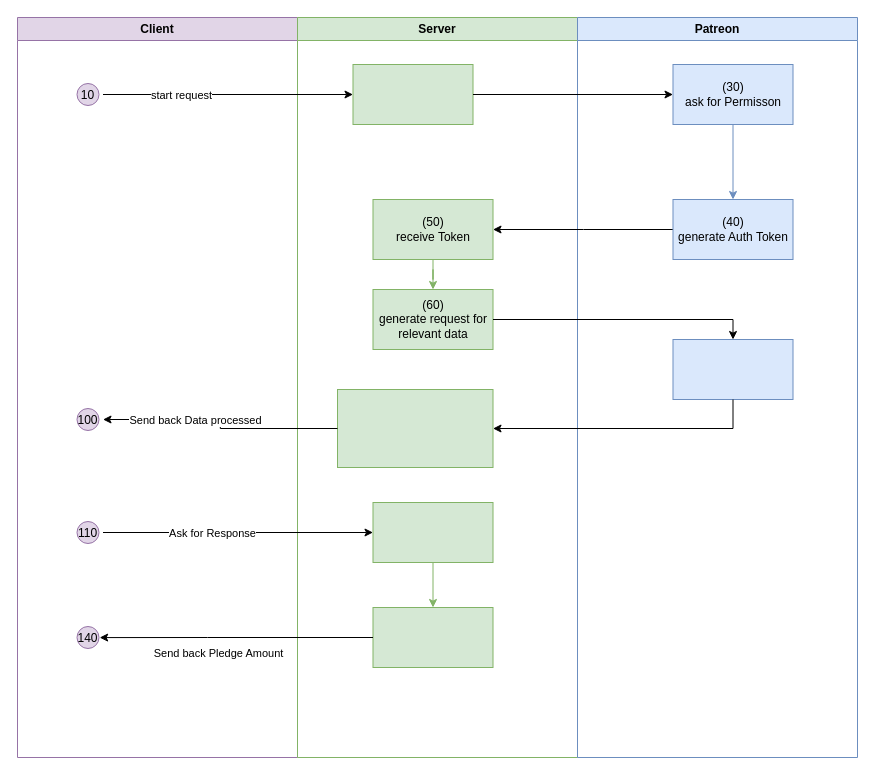
Some shapes in this 875 by 775 pixel diagram are drawn without their labels. Here are the shapes that lost their labels. From the top down, the centre of each, then its label:
At pixel 412 94: "(20) redirect to Patreon".
At pixel 732 369: "(70) generate response".
At pixel 414 428: "(90) process response (and safe response for 15min or first read access)".
At pixel 432 532: "(120) Process Request".
At pixel 432 637: "(130) process response and send back, after it delete it".
